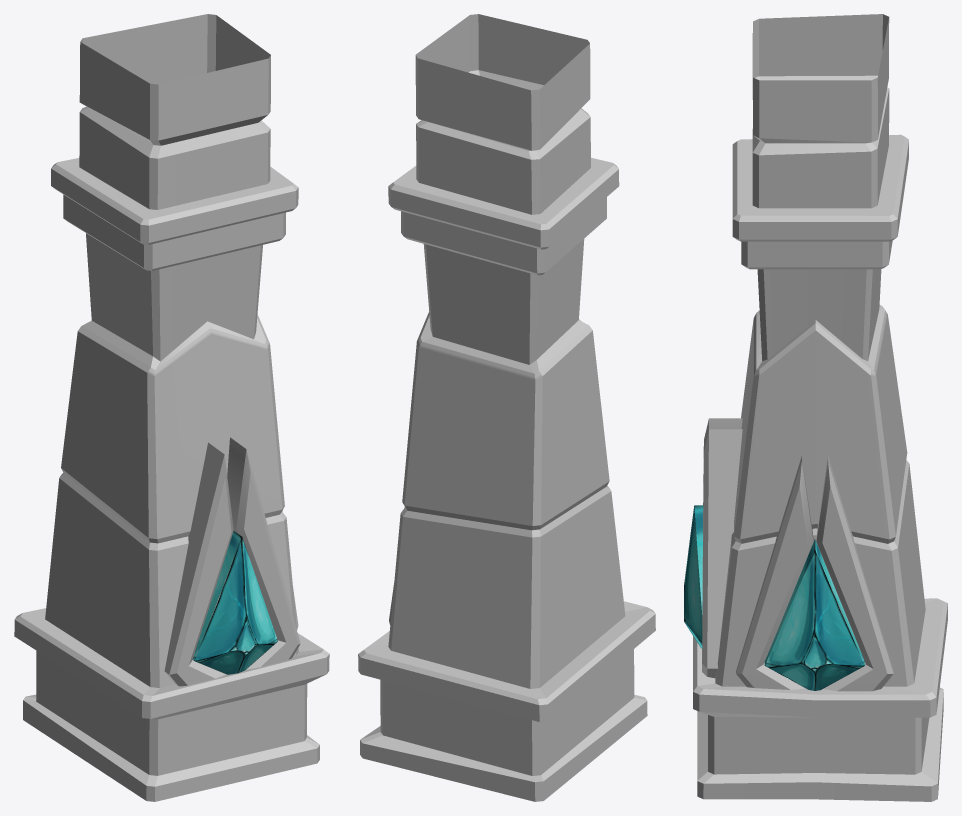
The model's file is Moonset_FBX_wall_04_Pillar_2.fbx.
3 renders of one model, left to right at view 1: azimuth 30°, elevation 25°; view 2: azimuth 150°, elevation 25°; view 3: azimuth 270°, elevation 25°, orthographic. The views are drawn at different scales.
Parts seen in each view (by area): view 1: Wall_4_Gem_Pillar_Corner1; view 2: Wall_4_Gem_Pillar_Corner1; view 3: Wall_4_Gem_Pillar_Corner1.
Boxes of the visible parts, x1,y1,x2,y2 form: Wall_4_Gem_Pillar_Corner1: (14, 14, 329, 801); Wall_4_Gem_Pillar_Corner1: (358, 14, 655, 801); Wall_4_Gem_Pillar_Corner1: (684, 14, 947, 801).
Size of the model in its own units: 2.07 by 6.75 by 2.27.
